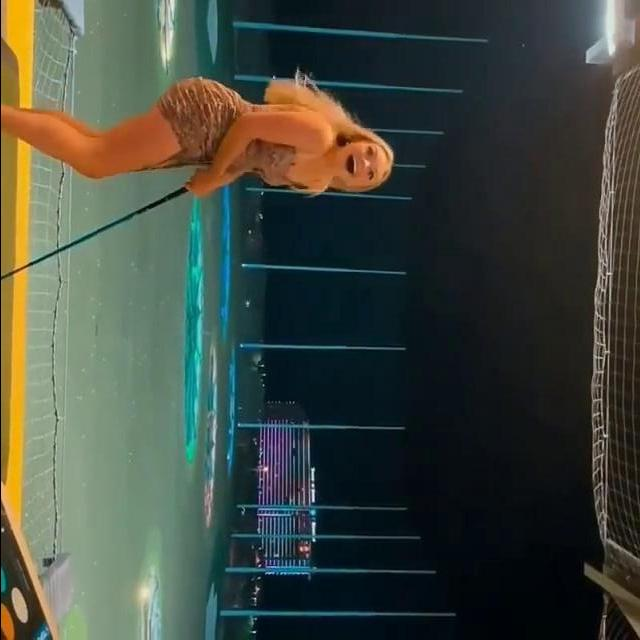golf club-handle: (0, 187, 197, 299)
